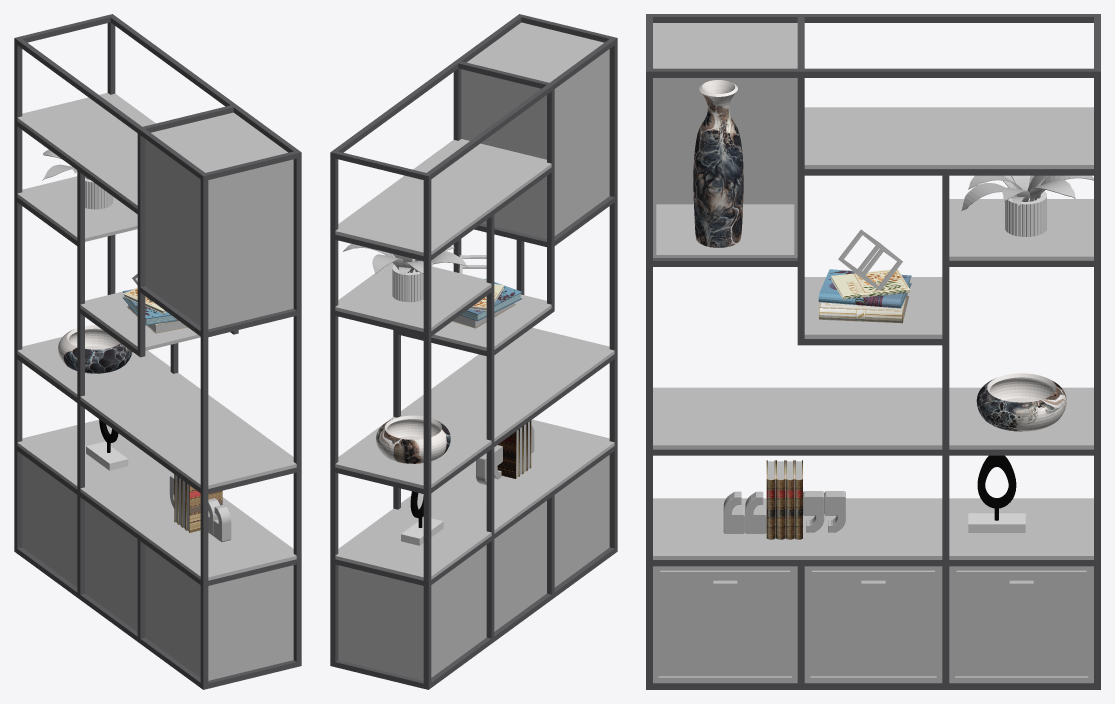
Rendered from Librero.fbx.
3 views of the same model, side by side, from view 1: azimuth 30°, elevation 25°; view 2: azimuth 150°, elevation 25°; view 3: azimuth 270°, elevation 25° (orthographic). The views are drawn at different scales.
Visible parts, largest first — view 1: Bookshelf_frame, Shelf_1, Storage_box, Shelf_5, Shelf_6, Shelf_2, Shelf_3, Shelf_4, Vase_2, Book_pack_1, Decoration_1, Quotation_mark_2 (+2 smaller); view 2: Bookshelf_frame, Storage_box, Shelf_1, Shelf_5, Shelf_6, Shelf_2, Shelf_3, Vase_2, Shelf_4, Book_pack_1, Plane.013, Flower_pot (+3 smaller); view 3: Storage_box, Bookshelf_frame, Shelf_1, Shelf_5, Shelf_6, Shelf_2, Shelf_3, Vase_1, Shelf_4, Vase_2, Book_pack_1, Plane.013 (+8 smaller).
Boxes of the visible parts, left/top/right/bottom form: Bookshelf_frame: left=14, top=14, right=301, bottom=689; Shelf_1: left=145, top=112, right=293, bottom=329; Storage_box: left=22, top=455, right=293, bottom=680; Shelf_5: left=17, top=337, right=296, bottom=488; Shelf_6: left=17, top=419, right=296, bottom=580; Shelf_2: left=17, top=93, right=155, bottom=208; Shelf_3: left=17, top=176, right=137, bottom=241; Shelf_4: left=80, top=288, right=200, bottom=350; Vase_2: left=58, top=325, right=132, bottom=373; Book_pack_1: left=174, top=474, right=222, bottom=532; Decoration_1: left=86, top=419, right=128, bottom=470; Quotation_mark_2: left=208, top=498, right=231, bottom=542; Bookshelf_frame: left=330, top=14, right=617, bottom=689; Storage_box: left=338, top=455, right=609, bottom=680; Shelf_1: left=461, top=22, right=609, bottom=239; Shelf_5: left=335, top=327, right=614, bottom=488; Shelf_6: left=335, top=419, right=614, bottom=580; Shelf_2: left=335, top=139, right=551, bottom=255; Shelf_3: left=335, top=262, right=491, bottom=331; Vase_2: left=376, top=415, right=450, bottom=463; Shelf_4: left=431, top=294, right=551, bottom=350; Book_pack_1: left=497, top=420, right=531, bottom=478; Plane.013: left=343, top=243, right=469, bottom=275; Flower_pot: left=392, top=264, right=423, bottom=302; Storage_box: left=653, top=566, right=1093, bottom=682; Bookshelf_frame: left=646, top=14, right=1100, bottom=689; Shelf_1: left=653, top=23, right=797, bottom=257; Shelf_5: left=653, top=387, right=1093, bottom=449; Shelf_6: left=653, top=498, right=1093, bottom=559; Shelf_2: left=804, top=107, right=1093, bottom=168; Shelf_3: left=949, top=199, right=1093, bottom=260; Vase_1: left=693, top=80, right=743, bottom=247; Shelf_4: left=804, top=277, right=942, bottom=338; Vase_2: left=976, top=373, right=1066, bottom=431; Book_pack_1: left=766, top=460, right=802, bottom=539; Plane.013: left=961, top=175, right=1093, bottom=211.
Size of the model in its own units: 66.12 by 300 by 200.
